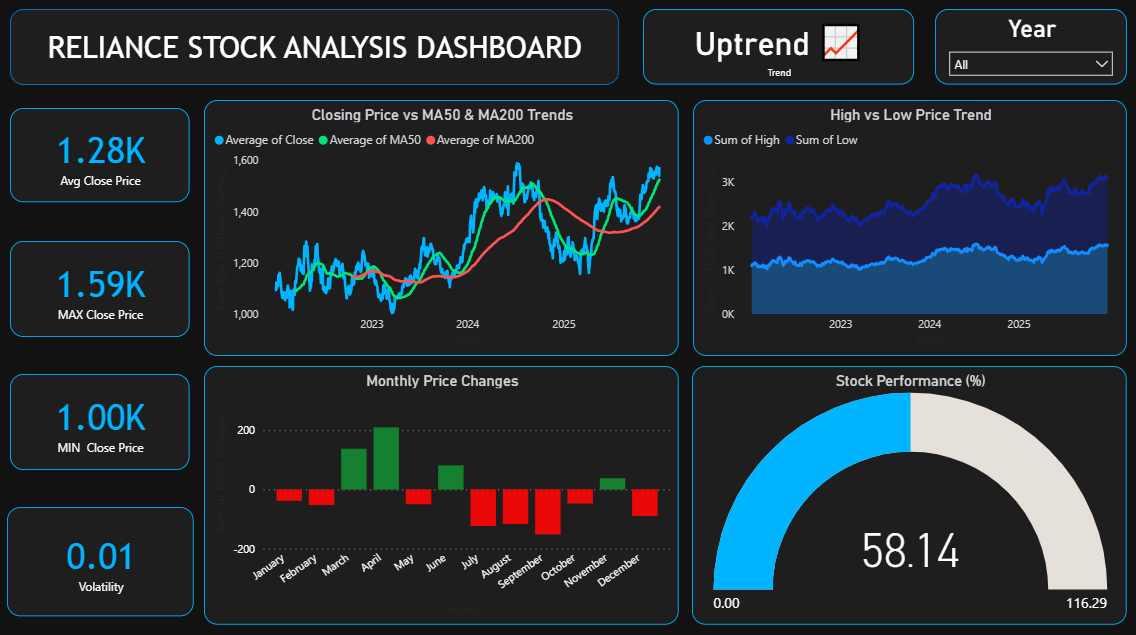

The page's visual inventory and layout, read from the dashboard file:
{"tool":"powerbi","page":{"name":"Page 1","canvas":[1280,720],"ordinal":0},"visuals":[{"type":"shape","box":[11.2,12.4,685.1,85.5],"z":0},{"type":"slicer","title":"Year","fields":{"Values":["stock_data.Date.Variation.Date Hierarchy.Year","stock_data.Date.Variation.Date Hierarchy.Month","stock_data.Date.Variation.Date Hierarchy.Day"]},"box":[1051.5,12.5,216.5,85.4],"z":1000},{"type":"card","fields":{"Values":["Measures Table 1.Avg Price"]},"box":[11.4,124.2,201.6,105.9],"z":2000},{"type":"card","fields":{"Values":["Measures Table 1.MAX Price"]},"box":[11.4,273.4,201.6,108.2],"z":3000},{"type":"card","fields":{"Values":["Measures Table 1.MIN Price"]},"box":[11.4,422.7,201.6,108.2],"z":4000},{"type":"card","fields":{"Values":["Measures Table 1.Volatility"]},"box":[8,573,209.6,123],"z":5000},{"type":"lineChart","fields":{"Y":["Avg(stock_data.Close)","Avg(stock_data.MA50)","Avg(stock_data.MA200)"],"Category":["stock_data.Date"]},"box":[229,115.1,534.3,288.2],"z":6000},{"type":"card","fields":{"Values":["Measures Table 1.Trend"]},"box":[723.4,12.5,305.3,85.4],"z":7000},{"type":"stackedAreaChart","fields":{"Category":["stock_data.Date"],"Y":["Sum(stock_data.High)","Sum(stock_data.Low)"]},"box":[779.6,114.8,488.2,288],"z":8000},{"type":"clusteredColumnChart","fields":{"Y":["Sum(stock_data.Price Change)"],"Category":["stock_data.Date.Variation.Date Hierarchy.Year","stock_data.Date.Variation.Date Hierarchy.Quarter","stock_data.Date.Variation.Date Hierarchy.Month","stock_data.Date.Variation.Date Hierarchy.Day"]},"box":[229,413.5,534.3,290.5],"z":9000},{"type":"gauge","fields":{"Y":["Measures Table 1.Performance %"]},"box":[778.5,414,489.4,291.4],"z":10000}]}

Visuals, with their boxes in screenshot pixels (x1, y1, x2, y2), scaled from the page's 1280x720 canvas onto the 1136x635 screenshot:
shape: (x1=10, y1=11, x2=618, y2=86)
"Year" slicer: (x1=933, y1=11, x2=1125, y2=86)
card - Measures Table 1.Avg Price: (x1=10, y1=110, x2=189, y2=203)
card - Measures Table 1.MAX Price: (x1=10, y1=241, x2=189, y2=337)
card - Measures Table 1.MIN Price: (x1=10, y1=373, x2=189, y2=468)
card - Measures Table 1.Volatility: (x1=7, y1=505, x2=193, y2=614)
lineChart - Avg(stock_data.Close) x Avg(stock_data.MA50): (x1=203, y1=102, x2=677, y2=356)
card - Measures Table 1.Trend: (x1=642, y1=11, x2=913, y2=86)
stackedAreaChart - stock_data.Date x Sum(stock_data.High): (x1=692, y1=101, x2=1125, y2=355)
clusteredColumnChart - Sum(stock_data.Price Change) x stock_data.Date.Variation.Date Hierarchy.Year: (x1=203, y1=365, x2=677, y2=621)
gauge - Measures Table 1.Performance %: (x1=691, y1=365, x2=1125, y2=622)
